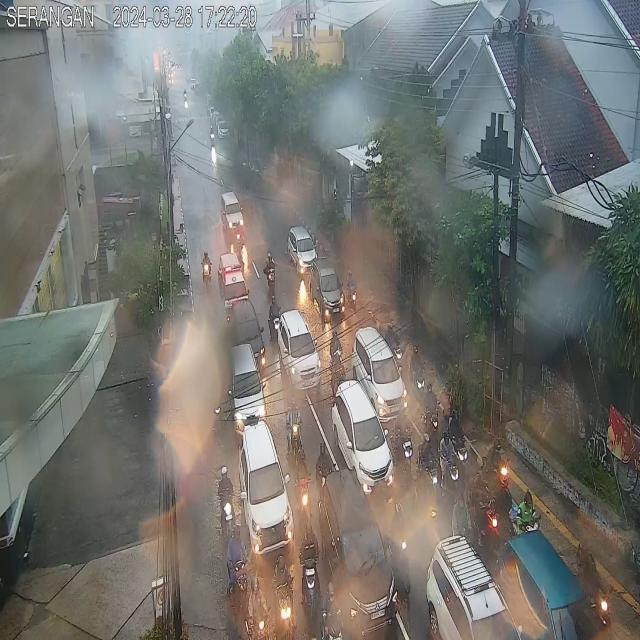car: (318, 468, 398, 640), (495, 529, 607, 640), (425, 537, 512, 638), (237, 422, 295, 555), (331, 379, 394, 496), (353, 326, 407, 424), (228, 343, 266, 435), (278, 311, 320, 390), (232, 299, 266, 371), (309, 257, 346, 321), (218, 252, 249, 321), (288, 226, 318, 268), (220, 191, 243, 237)
motorcycle: (571, 538, 613, 640), (466, 466, 502, 550), (299, 520, 321, 623), (481, 439, 512, 512), (227, 525, 249, 617), (272, 553, 295, 640), (414, 432, 438, 509), (448, 406, 470, 481), (509, 490, 544, 537), (245, 576, 270, 640), (437, 427, 459, 498), (392, 408, 412, 481), (218, 465, 236, 545), (294, 447, 312, 525), (285, 399, 305, 465), (321, 579, 342, 640), (421, 380, 439, 444), (409, 344, 427, 403), (316, 440, 336, 493), (383, 322, 403, 373), (328, 330, 346, 371), (268, 296, 282, 344), (263, 252, 278, 295), (344, 269, 358, 313), (200, 250, 212, 289)
